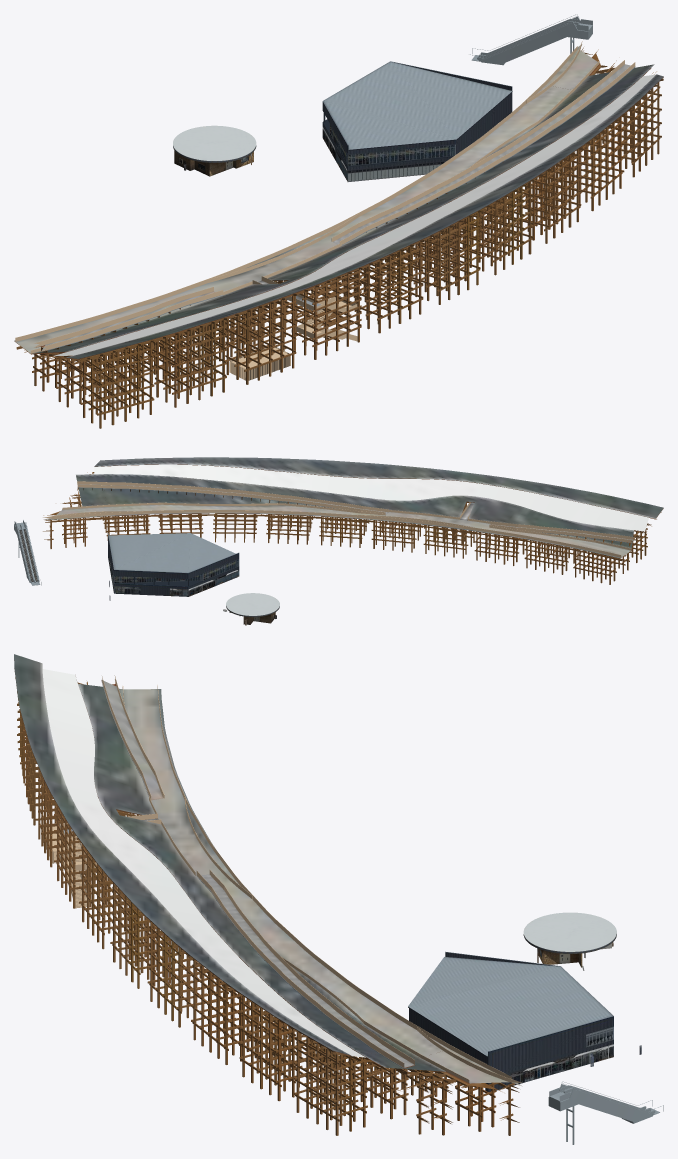
The picture shows the model from 3 angles, top to bottom: view 1: azimuth 30°, elevation 25°; view 2: azimuth 150°, elevation 25°; view 3: azimuth 270°, elevation 25°; orthographic projection. The views are drawn at different scales.
Visible parts, largest first — view 1: GrandRoofRing_大屋根リング, Buildings_建物パビリオン; view 2: GrandRoofRing_大屋根リング, Buildings_建物パビリオン; view 3: GrandRoofRing_大屋根リング, Buildings_建物パビリオン.
Part boxes in pixels (<box>): GrandRoofRing_大屋根リング: <box>14,14,663,428</box>; Buildings_建物パビリオン: <box>173,61,512,181</box>; GrandRoofRing_大屋根リング: <box>14,457,663,585</box>; Buildings_建物パビリオン: <box>108,533,279,624</box>; GrandRoofRing_大屋根リング: <box>14,654,663,1144</box>; Buildings_建物パビリオン: <box>408,912,616,1092</box>.
Size of the model in its own units: 211 by 20.77 by 140.
Materials: 16 (14 with a texture image).
